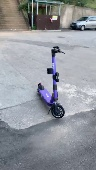beam: (35, 45, 69, 120)
